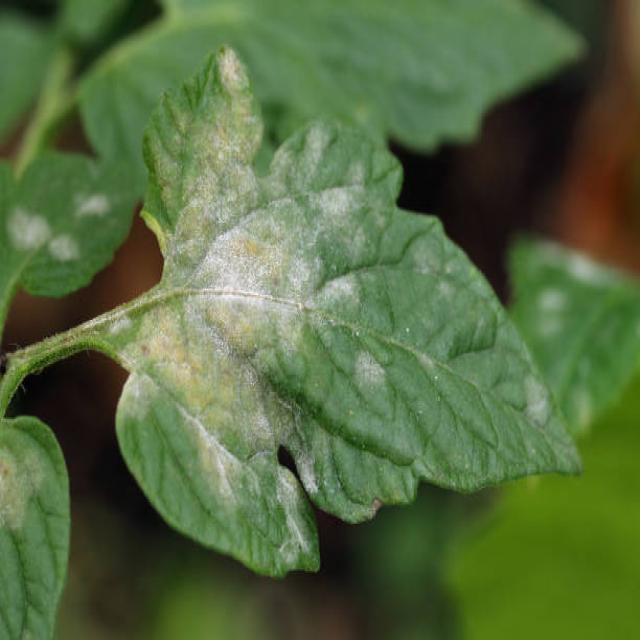Powdery Mildew: (110, 42, 582, 579)
